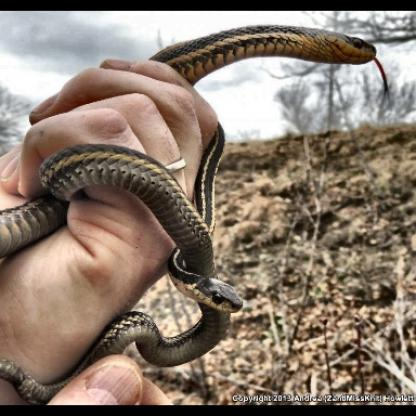Snake: (0, 118, 258, 403), (152, 20, 378, 91), (149, 241, 250, 327)
